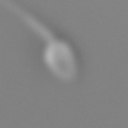normal: (1, 1, 53, 40)
